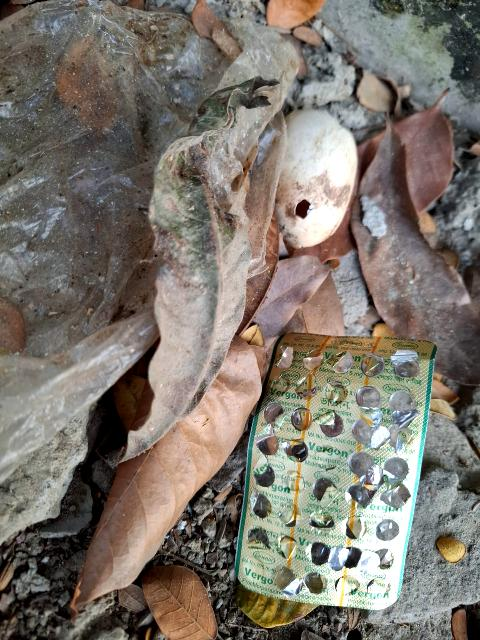medicine: (231, 316, 442, 611)
